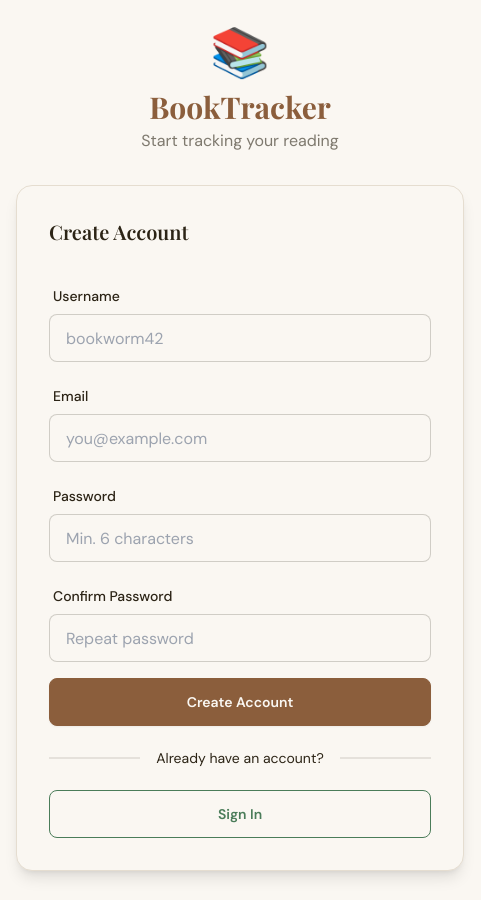
RegisterPage Component Unit Tests › Password Confirmation Validation › should reject submission if password and confirmation do not match
This screenshot has width=481, height=900.
Type "selma" into the field labelled "Username" at (240, 338), box [49,314,431,362]
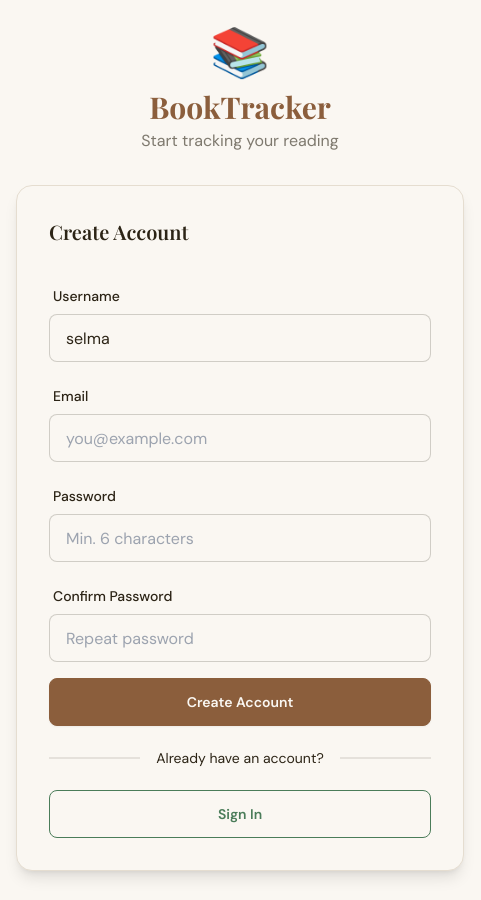
Type "selma@burch.edu" into the field named "Email Address" at (240, 438), box [49,414,431,462]
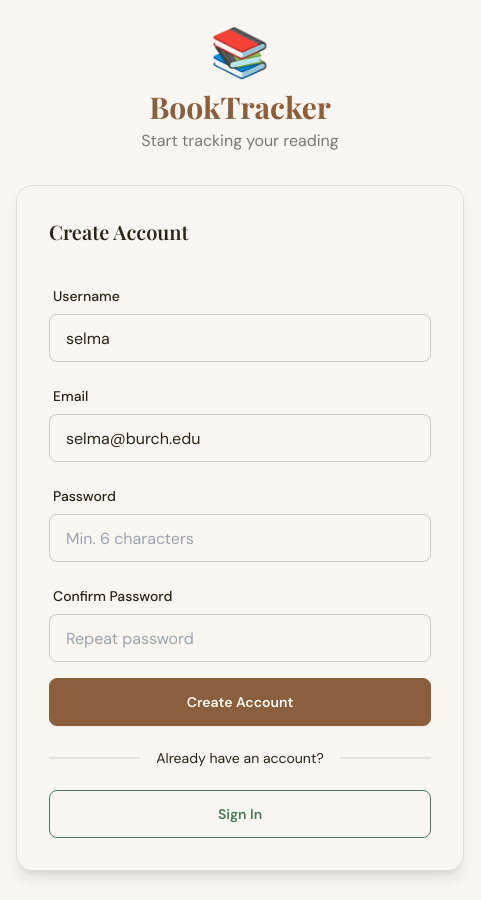
Type "securepass" into the password field labelled "Password" at (240, 538), box [49,514,431,562]
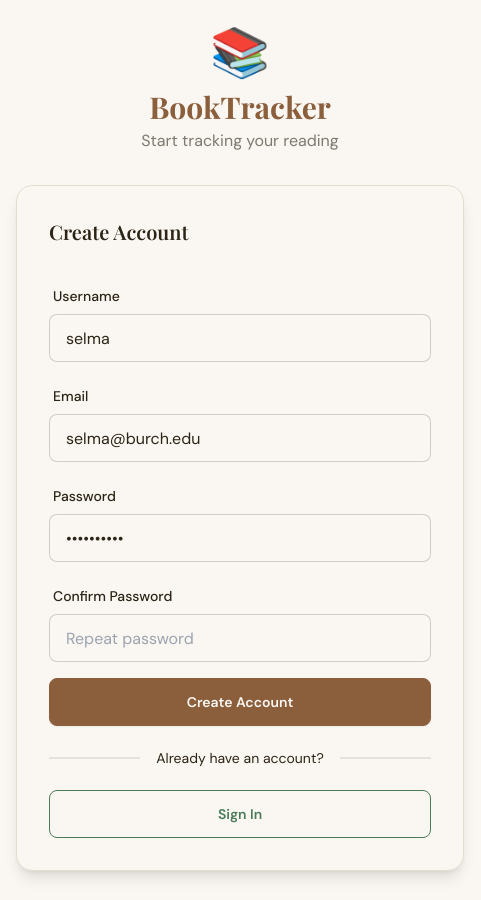
Type "different" into the password field labelled "Confirm Password" at (240, 638), box [49,614,431,662]
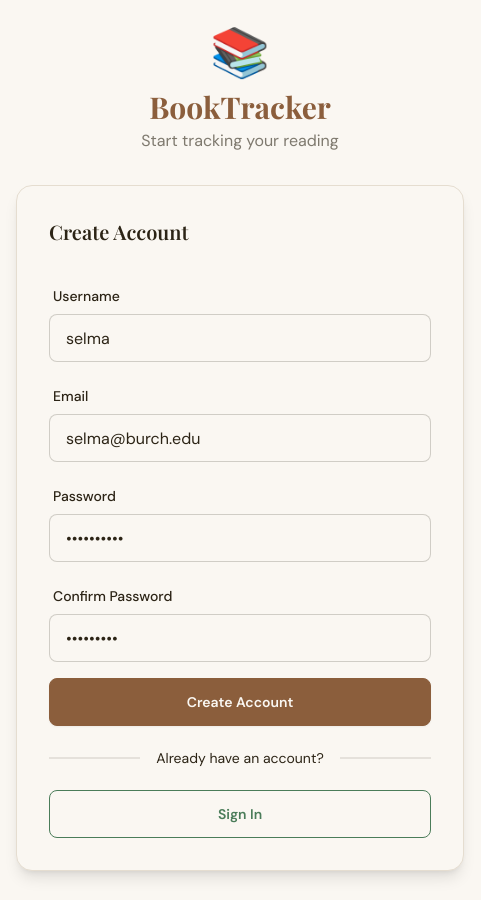
Click the button "Create Account" at (240, 702), box [49,678,431,726]
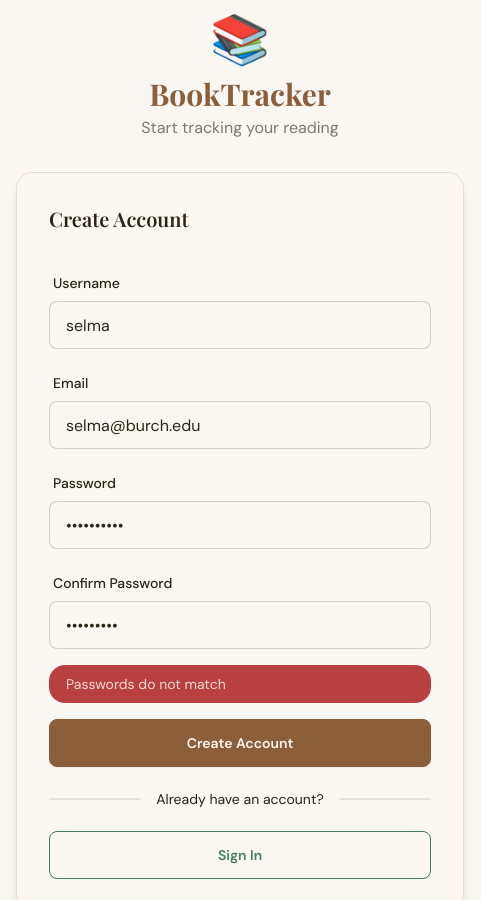
Now the message reads "Passwords do not match", box [66,675,226,693]
